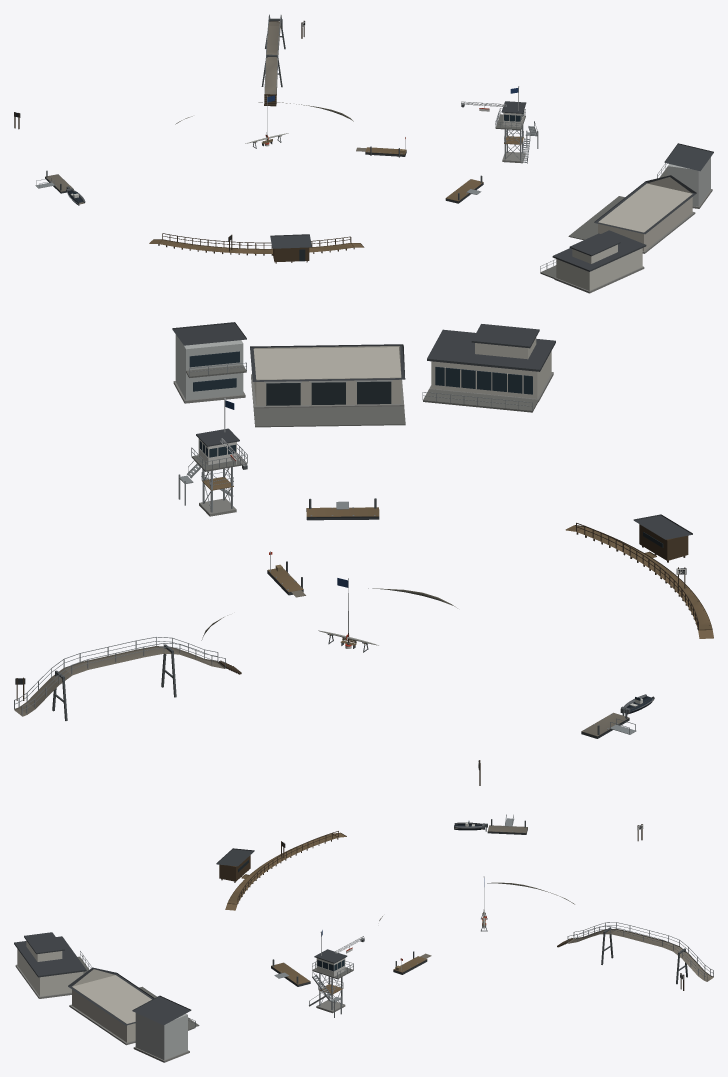
File: rowing-dressing.glb
3 renders of one model, top to bottom at view 1: azimuth 30°, elevation 25°; view 2: azimuth 150°, elevation 25°; view 3: azimuth 270°, elevation 25°, orthographic. The views are drawn at different scales.
Visible parts, largest first — view 1: dressing:row:boathouse, dressing:row:clubhouse, dressing:row:regatta-office, dressing:row:finish-tower, dressing:row:wetland-boardwalk, dressing:row:course-bridge, dressing:row:wetland-hide, dressing:row:coaching-pontoon, dressing:row:launch-pontoon; view 2: dressing:row:boathouse, dressing:row:clubhouse, dressing:row:regatta-office, dressing:row:course-bridge, dressing:row:finish-tower, dressing:row:wetland-boardwalk, dressing:row:wetland-hide, dressing:row:coaching-pontoon, dressing:row:launch-pontoon; view 3: dressing:row:boathouse, dressing:row:clubhouse, dressing:row:regatta-office, dressing:row:course-bridge, dressing:row:finish-tower, dressing:row:wetland-boardwalk, dressing:row:wetland-hide, dressing:row:coaching-pontoon, dressing:row:launch-pontoon.
Part boxes in pixels (x1=…): dressing:row:boathouse: x1=568, y1=175, x2=696, y2=253; dressing:row:clubhouse: x1=540, y1=230, x2=646, y2=293; dressing:row:regatta-office: x1=657, y1=143, x2=713, y2=208; dressing:row:finish-tower: x1=461, y1=86, x2=538, y2=163; dressing:row:wetland-boardwalk: x1=149, y1=233, x2=364, y2=255; dressing:row:course-bridge: x1=261, y1=14, x2=285, y2=106; dressing:row:wetland-hide: x1=270, y1=234, x2=311, y2=263; dressing:row:coaching-pontoon: x1=35, y1=170, x2=85, y2=205; dressing:row:launch-pontoon: x1=445, y1=175, x2=483, y2=203; dressing:row:boathouse: x1=250, y1=344, x2=405, y2=427; dressing:row:clubhouse: x1=422, y1=324, x2=555, y2=412; dressing:row:regatta-office: x1=172, y1=322, x2=246, y2=403; dressing:row:course-bridge: x1=14, y1=637, x2=241, y2=720; dressing:row:finish-tower: x1=178, y1=398, x2=247, y2=516; dressing:row:wetland-boardwalk: x1=565, y1=522, x2=713, y2=638; dressing:row:wetland-hide: x1=633, y1=514, x2=692, y2=562; dressing:row:coaching-pontoon: x1=581, y1=694, x2=654, y2=738; dressing:row:launch-pontoon: x1=306, y1=498, x2=379, y2=520; dressing:row:boathouse: x1=68, y1=967, x2=199, y2=1045; dressing:row:clubhouse: x1=14, y1=932, x2=92, y2=998; dressing:row:regatta-office: x1=132, y1=995, x2=195, y2=1062; dressing:row:course-bridge: x1=557, y1=922, x2=713, y2=984; dressing:row:finish-tower: x1=309, y1=930, x2=364, y2=1017; dressing:row:wetland-boardwalk: x1=225, y1=831, x2=346, y2=910; dressing:row:wetland-hide: x1=216, y1=848, x2=254, y2=882; dressing:row:coaching-pontoon: x1=454, y1=814, x2=527, y2=834; dressing:row:launch-pontoon: x1=271, y1=959, x2=310, y2=986.
Bounding box in the file's own units: 89.6 × 13.61 × 108.
